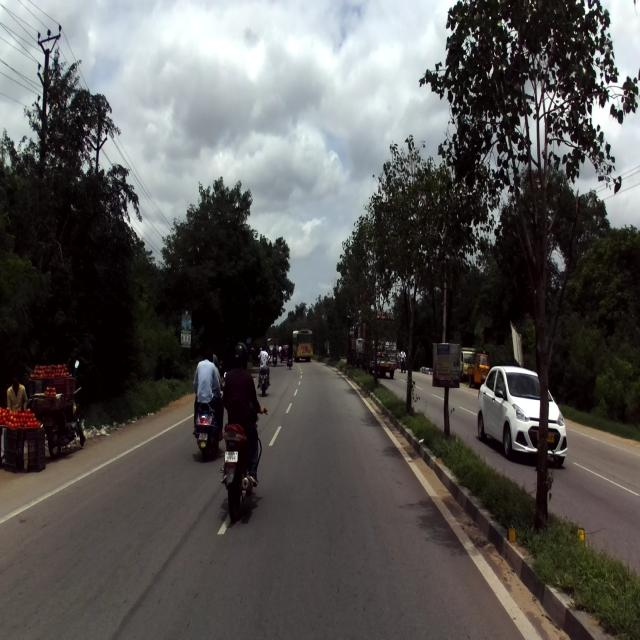Car_Hyundai: (477, 364, 568, 468)
motorcycle_HeroHonda: (218, 402, 268, 520)
motorcycle_TVS: (43, 359, 85, 460)
scooter: (192, 370, 228, 460)
